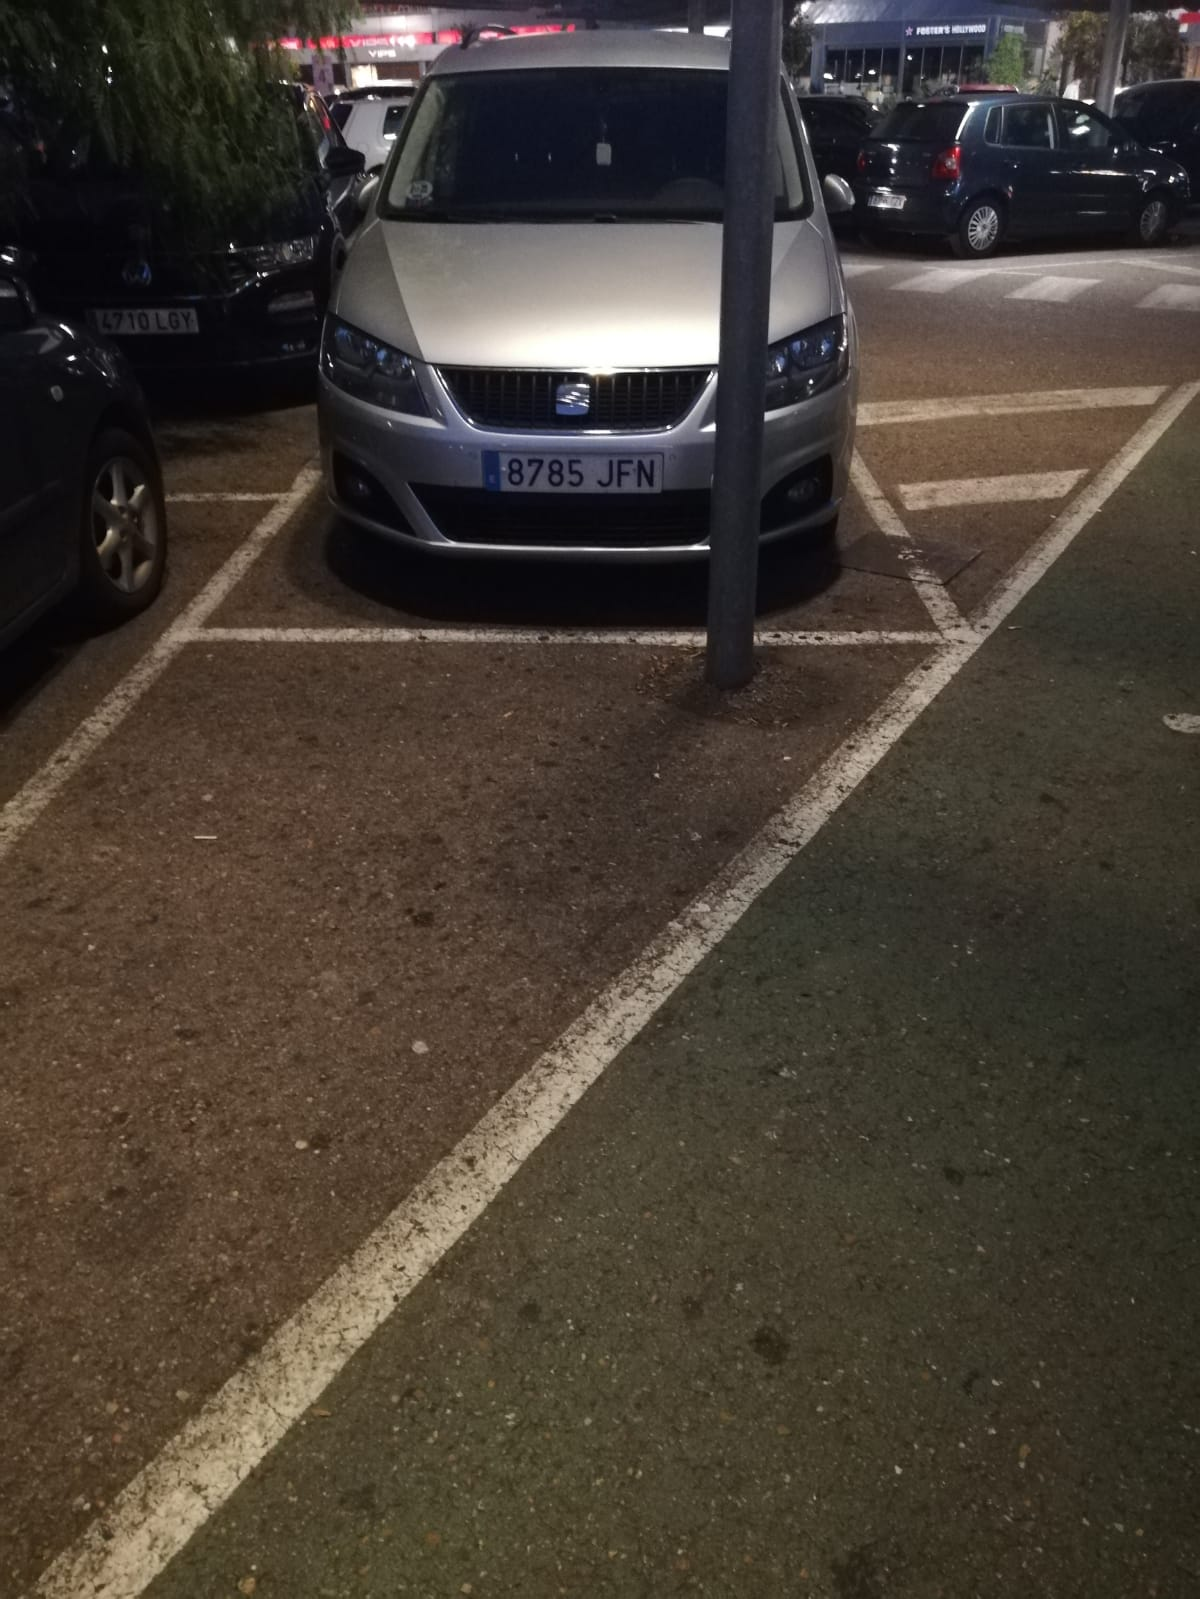Car: (317, 33, 848, 568)
Plate: (481, 451, 661, 495)
